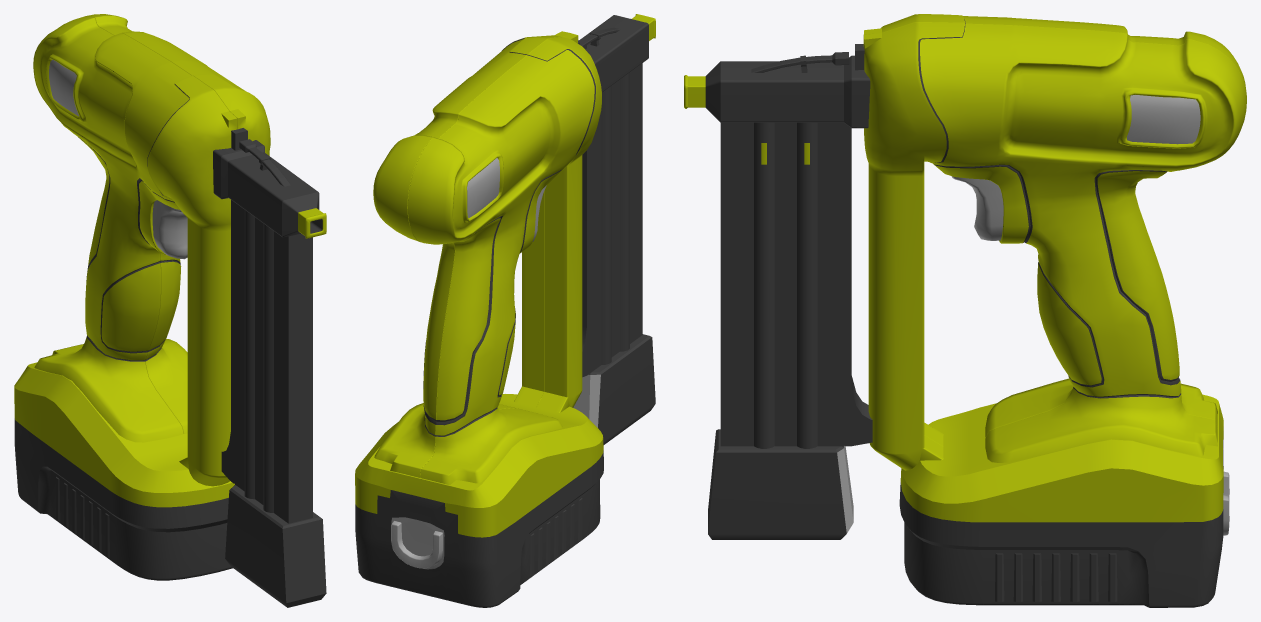
File: MDL_NailGun.fbx
The picture shows the model from 3 angles, left to right: view 1: azimuth 30°, elevation 25°; view 2: azimuth 150°, elevation 25°; view 3: azimuth 270°, elevation 25°; orthographic projection. The views are drawn at different scales.
Parts seen in each view (by area): view 1: MDL_NailGun; view 2: MDL_NailGun; view 3: MDL_NailGun.
Part boxes in pixels (x1,y1,x2,y2): MDL_NailGun: (14,14,326,607); MDL_NailGun: (355,14,655,607); MDL_NailGun: (684,14,1246,607).
Size of the model in its own units: 7.91 by 24.43 by 22.82.
